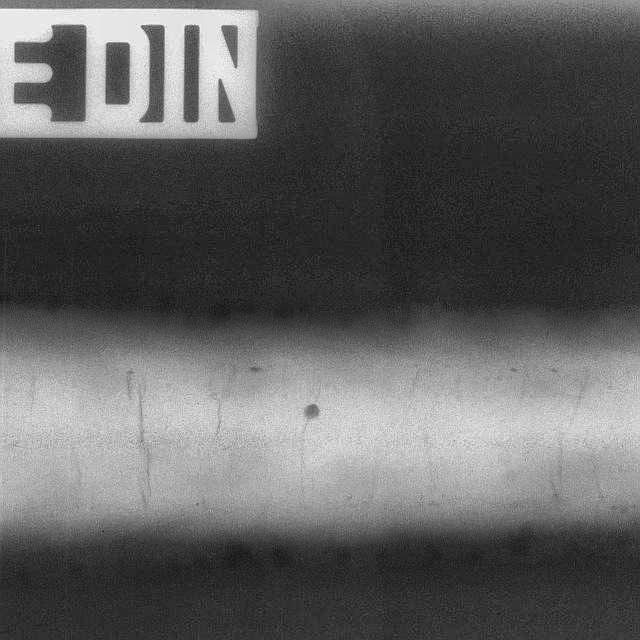Crack: (192, 334, 352, 544), (508, 338, 622, 522), (394, 336, 481, 525), (95, 358, 176, 550)
